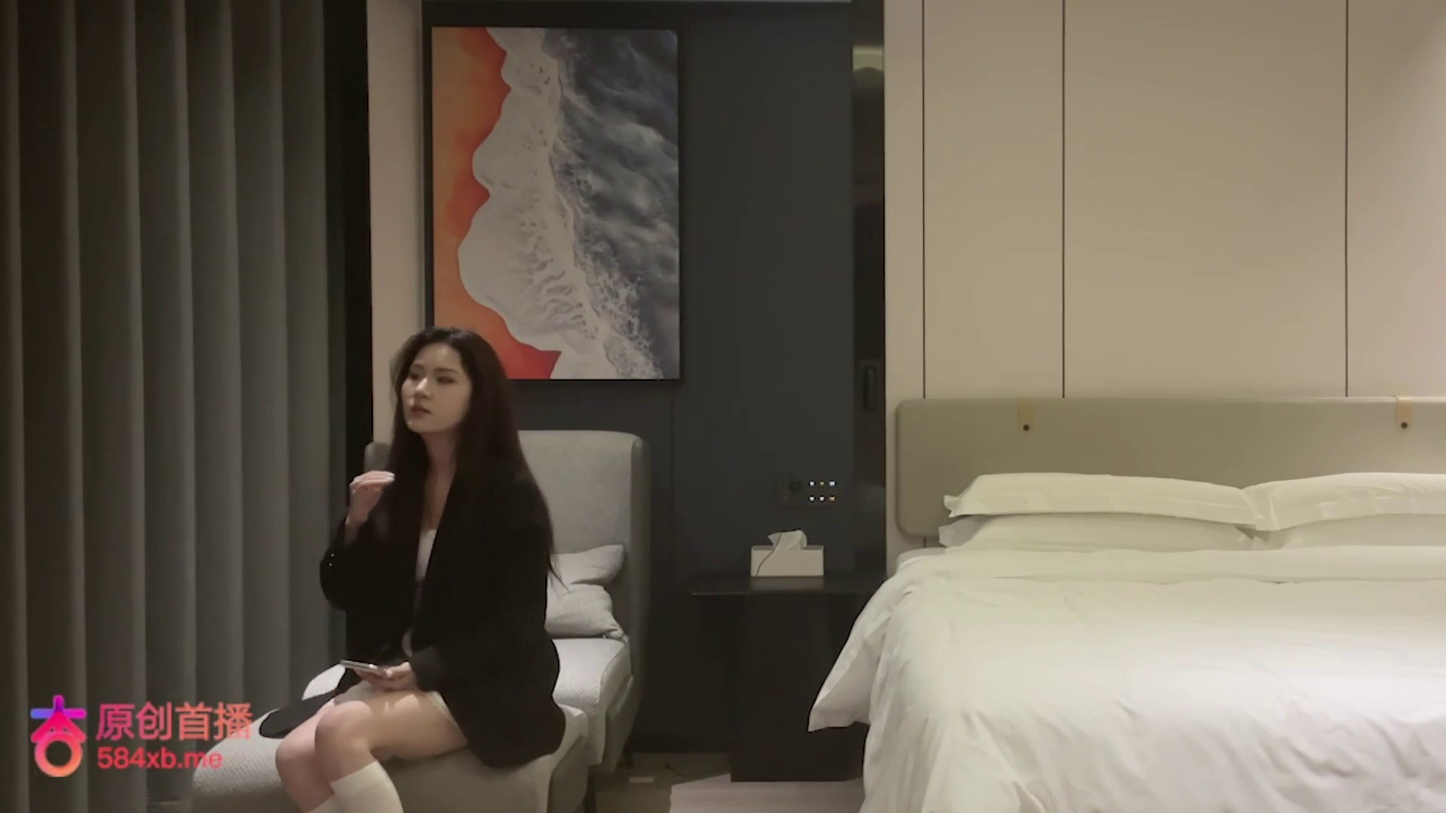sit: (271, 326, 566, 810)
